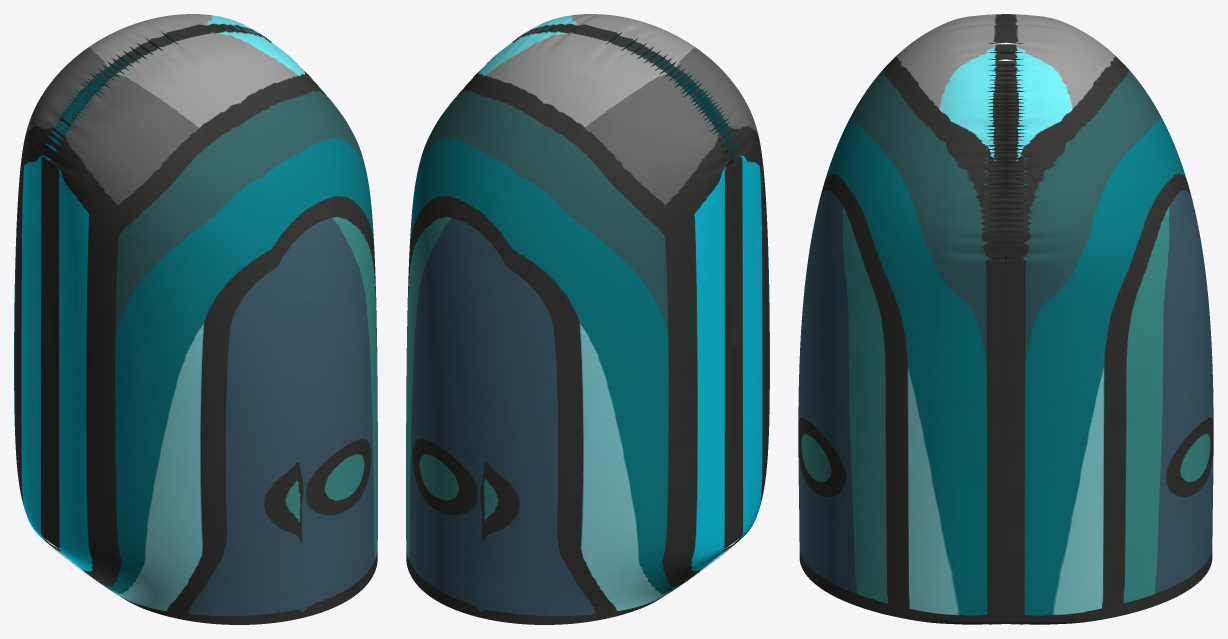
The model's file is arch_post.glb.
The picture shows the model from 3 angles, left to right: view 1: azimuth 30°, elevation 25°; view 2: azimuth 150°, elevation 25°; view 3: azimuth 270°, elevation 25°; orthographic projection.
Visible parts, largest first — view 1: arch_post; view 2: arch_post; view 3: arch_post.
Boxes of the visible parts, <box> form: arch_post: <box>14,14,377,624</box>; arch_post: <box>406,14,769,624</box>; arch_post: <box>798,14,1213,624</box>.
Size of the model in its own units: 0.9817 by 1.65 by 1.2.
1 material, 1 textured.
